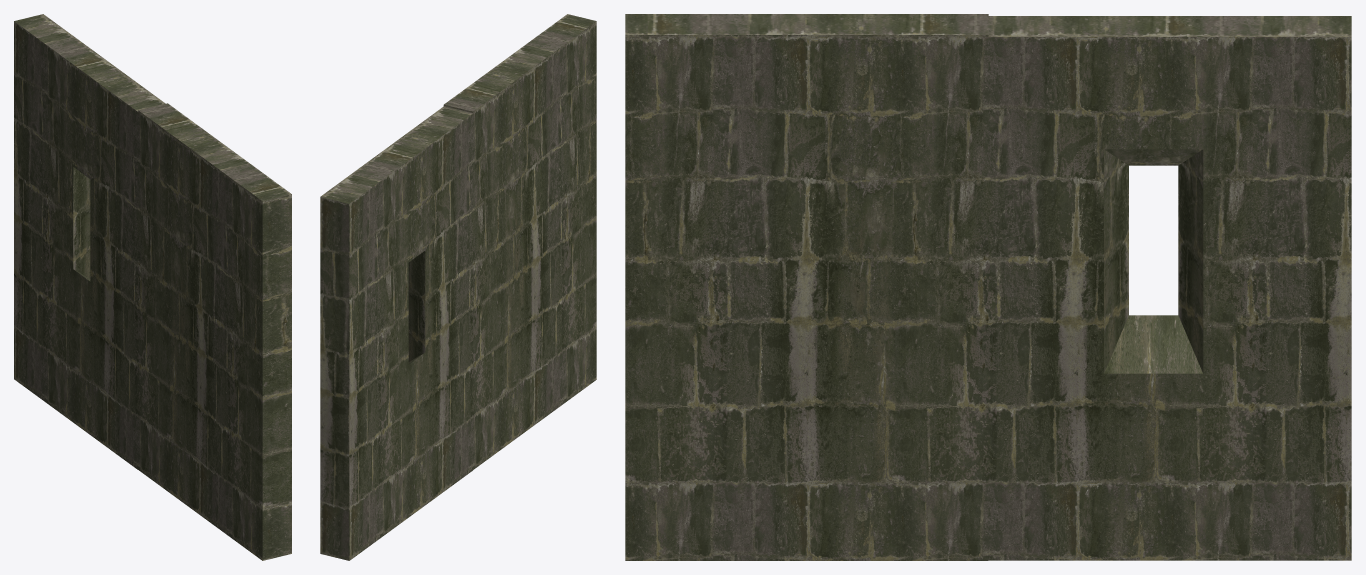
The model's file is Wall_Arrowslit_R.fbx.
3 views of the same model, side by side, from view 1: azimuth 30°, elevation 25°; view 2: azimuth 150°, elevation 25°; view 3: azimuth 270°, elevation 25° (orthographic). The views are drawn at different scales.
Parts seen in each view (by area): view 1: Arrowslit_R; view 2: Arrowslit_R; view 3: Arrowslit_R.
Part boxes in pixels (x1,y1,x2,y2): Arrowslit_R: (14, 14, 291, 560); Arrowslit_R: (320, 14, 596, 560); Arrowslit_R: (625, 14, 1351, 560).
Bounding box in the file's own units: 51.5 × 598 × 748.
